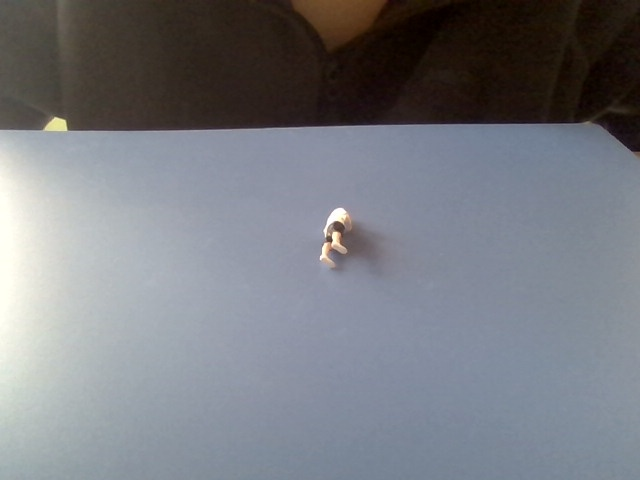fall: (314, 202, 357, 271)
